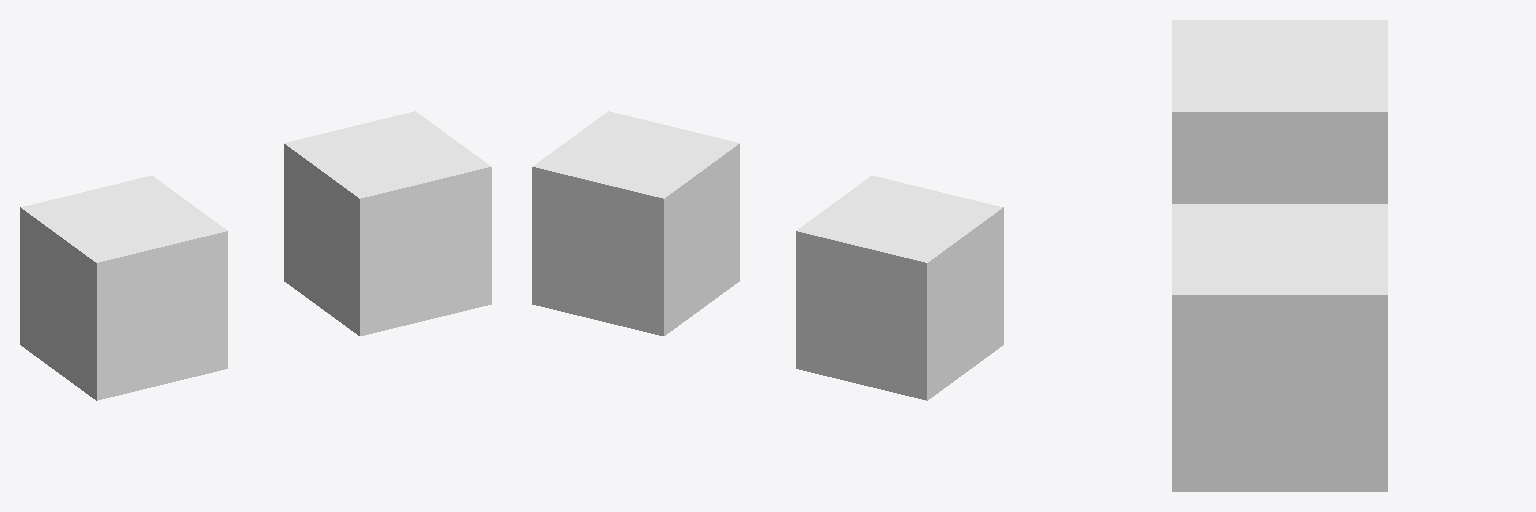
The robot description file, URDF, robot "material_texture_name_duplication":
<?xml version="1.0"?>
<robot name="material_texture_name_duplication">
  <material name="texture_material">
    <color rgba="1.0 1.0 1.0 1.0"/>
    <texture filename="assets/grid.png"/>
  </material>
  <material name="texture_material_2">
    <color rgba="1.0 1.0 1.0 1.0"/>
    <texture filename="assets/textures/grid.png"/>
  </material>

  <link name="link_obj">
    <visual>
      <geometry>
        <mesh filename="assets/box.obj" scale="0.5 0.5 0.5"/>
      </geometry>
      <material name="texture_material"/>
    </visual>
  </link>
  <link name="link_obj2">
    <visual>
      <geometry>
        <mesh filename="assets/box.obj" scale="0.5 0.5 0.5"/>
      </geometry>
      <material name="texture_material_2"/>
    </visual>
  </link>

  <joint name="joint_obj" type="fixed">
    <origin rpy="0 0 0" xyz="1 0 0"/>
    <parent link="link_obj"/>
    <child link="link_obj2"/>
  </joint>
</robot>

--- Render facts (derived) ---
3 views of the same robot in one strip: view 1: azimuth 30°, elevation 25°; view 2: azimuth 150°, elevation 25°; view 3: azimuth 270°, elevation 25° (orthographic).
Model material_texture_name_duplication with 2 links and 1 joints (1 fixed), rooted at link_obj, posed all joints at 0.
Visible links, largest first — view 1: link_obj, link_obj2; view 2: link_obj, link_obj2; view 3: link_obj2, link_obj.
Boxes of the visible links, x1,y1,x2,y2 form: link_obj: (20, 176, 227, 400); link_obj2: (284, 111, 491, 335); link_obj: (796, 176, 1003, 400); link_obj2: (532, 111, 739, 335); link_obj2: (1172, 204, 1387, 491); link_obj: (1172, 20, 1387, 203).
Size in the robot's own frame: 1.5 by 0.5 by 0.5 metres.
2 mesh visuals loaded from 1 distinct referenced files (1 OBJ).